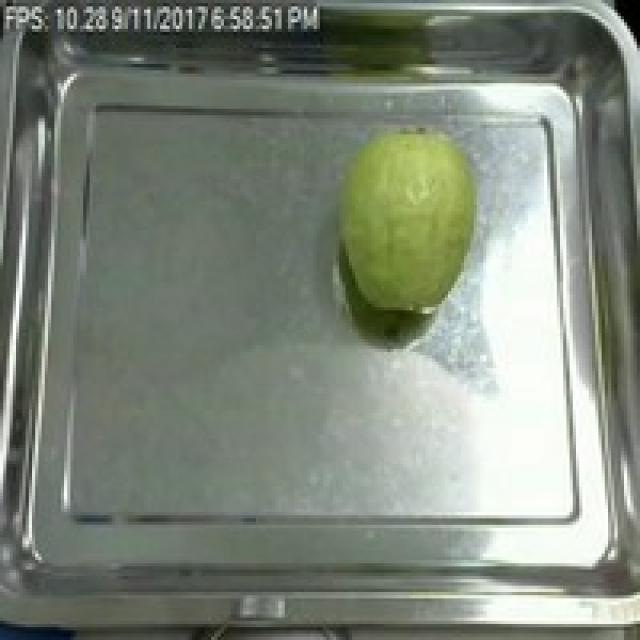Fruit: (323, 115, 493, 320)
